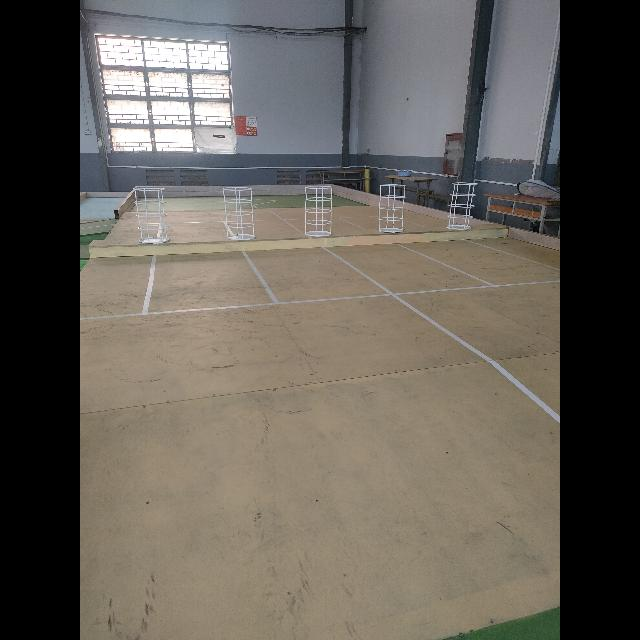S: (133, 187, 171, 245), (222, 186, 256, 241), (304, 184, 333, 238), (377, 183, 407, 233)
